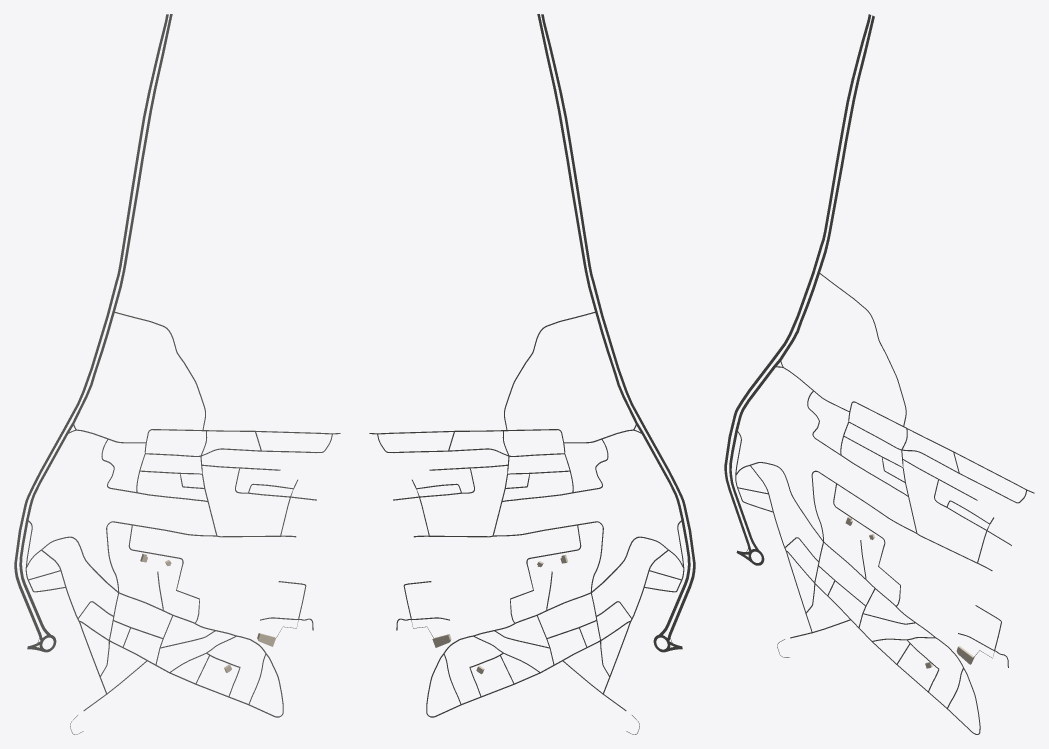
File: zarqa_3606_3211.glb
3 renders of one model, left to right at view 1: azimuth 30°, elevation 25°; view 2: azimuth 150°, elevation 25°; view 3: azimuth 330°, elevation 25°, orthographic. The views are drawn at different scales.
Visible parts, largest first — view 1: Road طريق السخنة.001, Road طريق السخنة, Road الحاج عايد الغويري ابو عمر; view 2: Road طريق السخنة, Road طريق السخنة.001, Road الحاج عايد الغويري ابو عمر; view 3: Road طريق السخنة, Road طريق السخنة.001, Road الحاج عايد الغويري ابو عمر.
Part boxes in pixels (left/top/right/bottom): Road طريق السخنة.001: left=19, top=14, right=172, bottom=636; Road طريق السخنة: left=14, top=14, right=168, bottom=640; Road الحاج عايد الغويري ابو عمر: left=118, top=592, right=283, bottom=717; Road طريق السخنة: left=541, top=14, right=695, bottom=640; Road طريق السخنة.001: left=537, top=14, right=690, bottom=636; Road الحاج عايد الغويري ابو عمر: left=426, top=592, right=590, bottom=717; Road طريق السخنة: left=724, top=14, right=871, bottom=552; Road طريق السخنة.001: left=729, top=15, right=874, bottom=551; Road الحاج عايد الغويري ابو عمر: left=823, top=542, right=980, bottom=734.
Bounding box in the file's own units: 969 × 2073 × 8.7.
